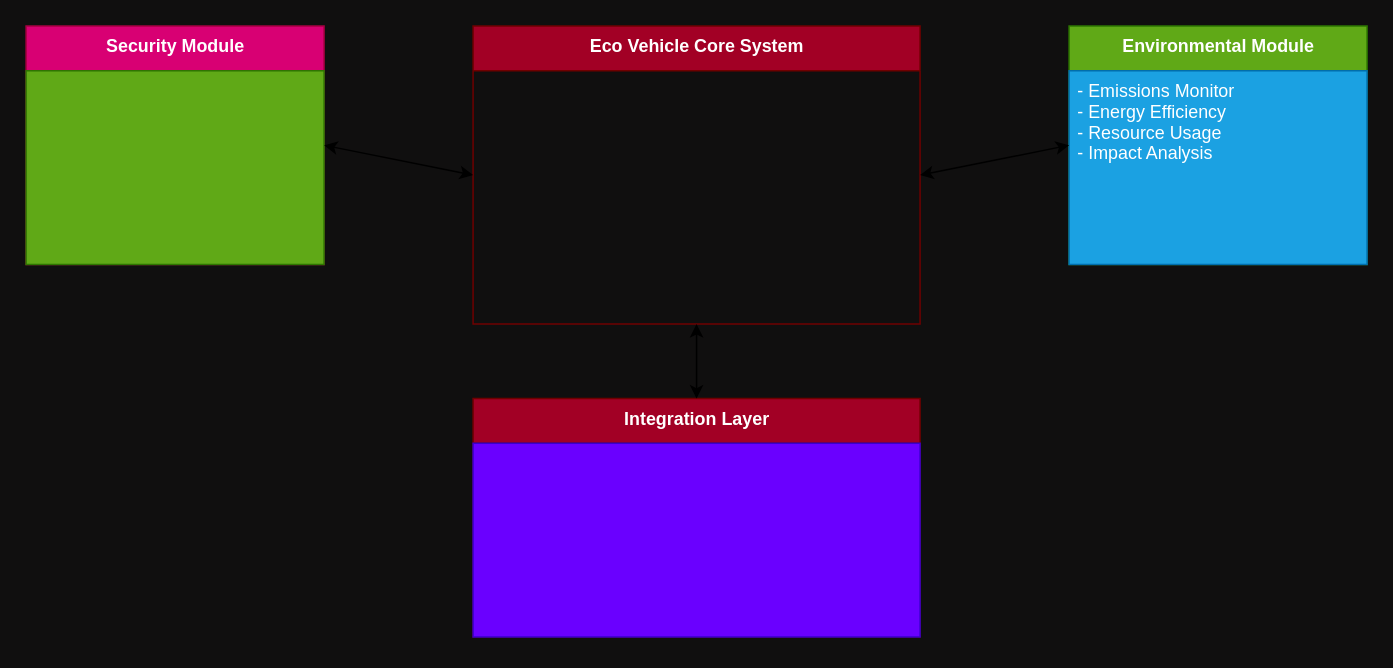
Image size: 1393x668. Some labels were removed from this diagram. The shapes that lost their labels are listed below. From the top down, each one's centre as x and y in pixels, then its label:
At [174,166]: "- Credentials Manager - Encryption Service - Access Control - Audit Logging".
At [696,539]: "- Autodesk Integration - Data Export/Import - API Gateway - External Services".
